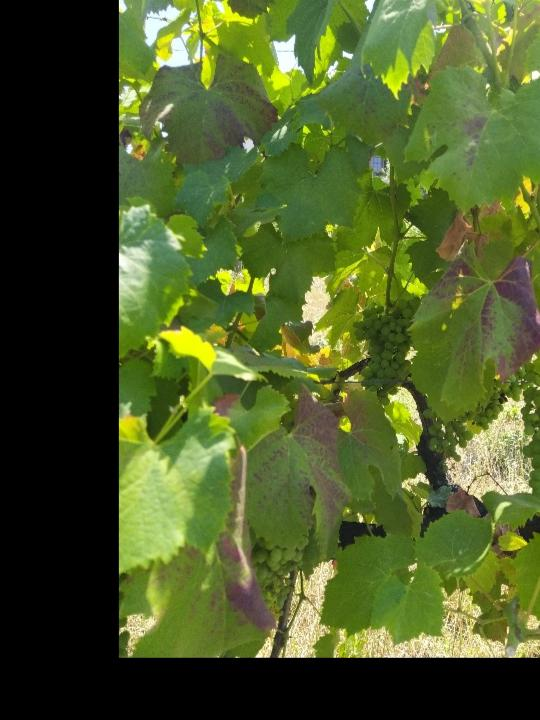grape: (352, 295, 420, 405), (520, 382, 540, 507)
